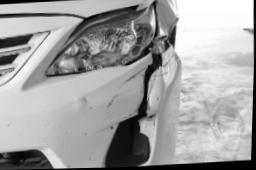Bumper: (63, 45, 185, 168)
Fender: (155, 0, 180, 53)
Light: (46, 6, 156, 74)
